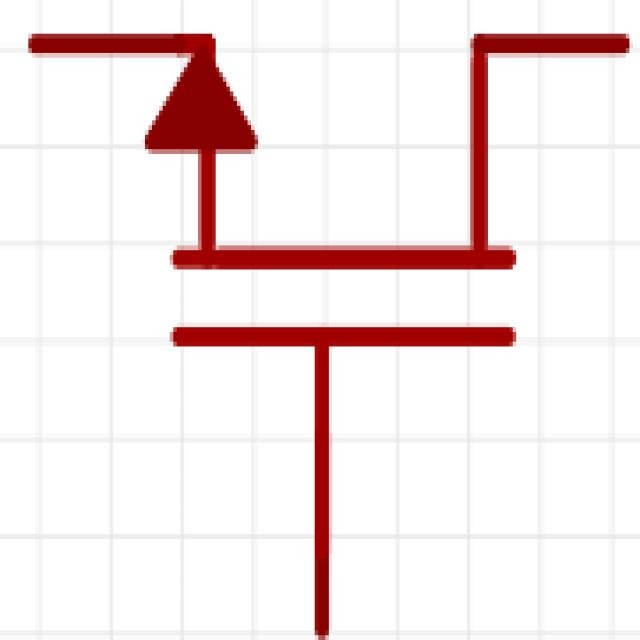nmos: (22, 12, 616, 617)
